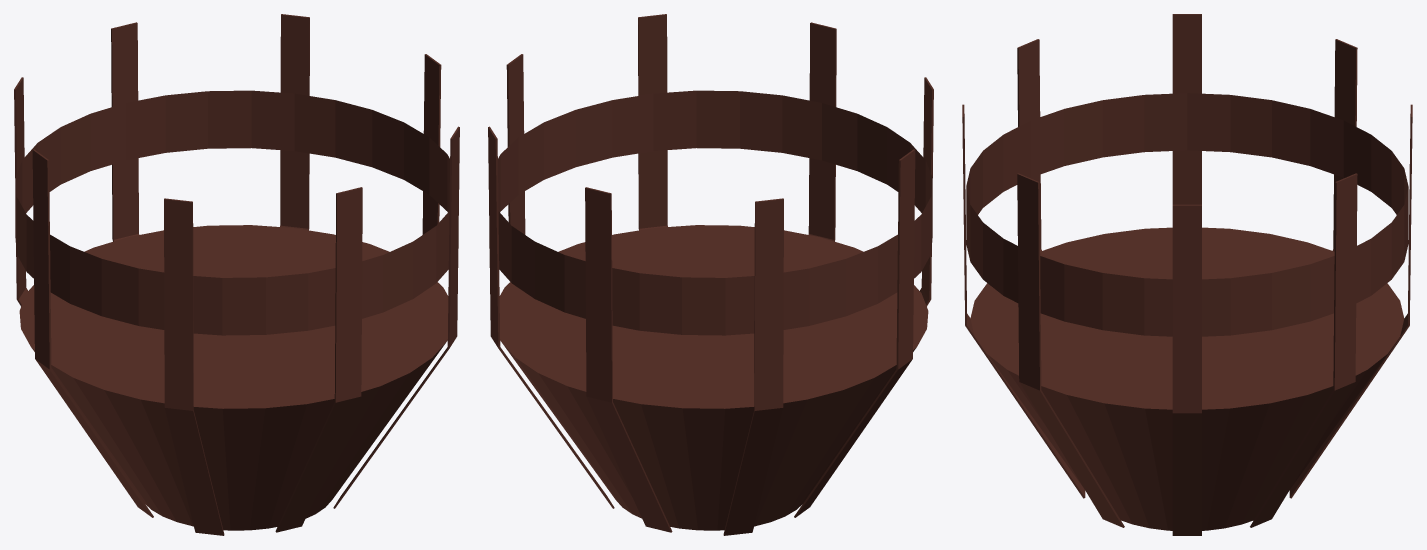
Rendered from switch.obj.
The picture shows the model from 3 angles, left to right: view 1: azimuth 30°, elevation 25°; view 2: azimuth 150°, elevation 25°; view 3: azimuth 270°, elevation 25°; orthographic projection.
Visible parts, largest first — view 1: 立方体.007; view 2: 立方体.007; view 3: 立方体.007.
Part boxes in pixels (x1,y1,x2,y2): 立方体.007: (14,14,459,535); 立方体.007: (488,14,933,535); 立方体.007: (962,14,1412,535).
Bounding box in the file's own units: 4.61 × 4.29 × 4.58.
1 material, 1 textured.
